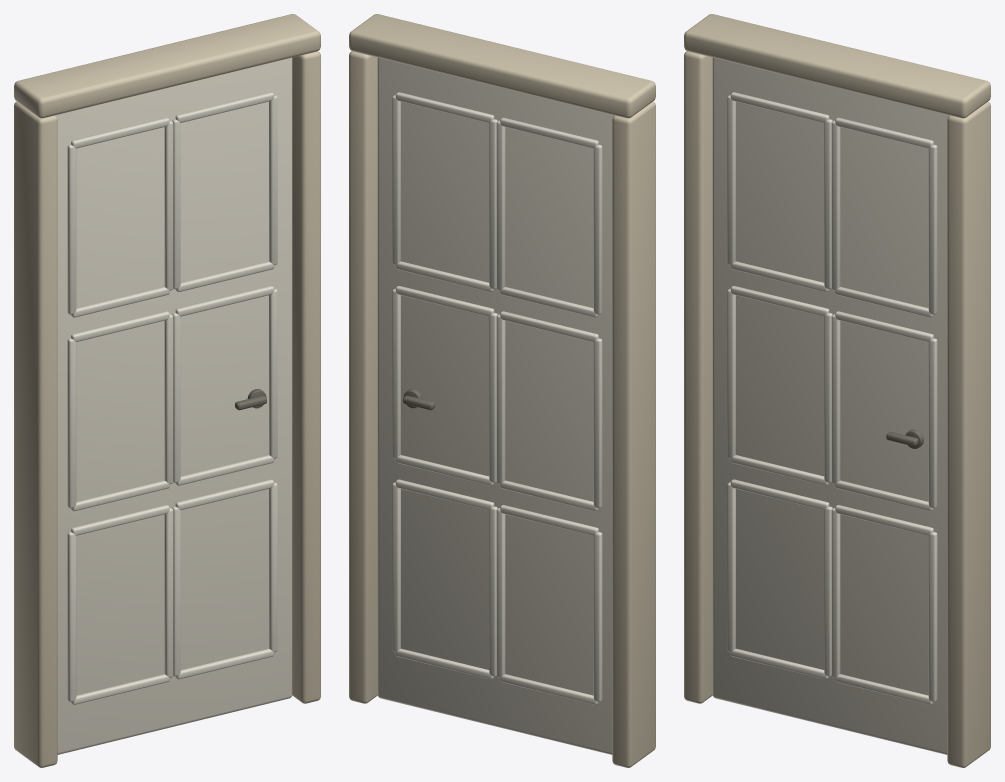
The model's file is door-six-panel.glb.
3 renders of one model, left to right at view 1: azimuth 30°, elevation 25°; view 2: azimuth 150°, elevation 25°; view 3: azimuth 330°, elevation 25°, orthographic.
Parts seen in each view (by area): view 1: catalog_surface_UVMap, catalog_surface_RealismUV; view 2: catalog_surface_UVMap, catalog_surface_RealismUV; view 3: catalog_surface_UVMap, catalog_surface_RealismUV.
Boxes of the visible parts, bbox=[...] form: catalog_surface_UVMap: bbox=[55, 57, 292, 754]; catalog_surface_RealismUV: bbox=[14, 14, 320, 767]; catalog_surface_UVMap: bbox=[377, 57, 614, 754]; catalog_surface_RealismUV: bbox=[349, 14, 655, 767]; catalog_surface_UVMap: bbox=[712, 57, 949, 754]; catalog_surface_RealismUV: bbox=[684, 14, 990, 767].
Bounding box in the file's own units: 0.95 × 2.15 × 0.16.
